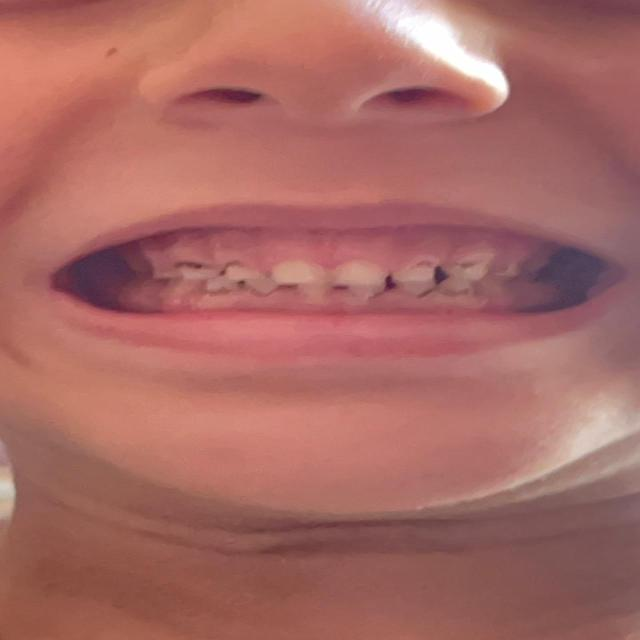tooth: (328, 265, 377, 283), (279, 263, 315, 282), (452, 262, 486, 281), (403, 265, 433, 285), (226, 262, 252, 282), (304, 281, 332, 299), (455, 283, 481, 299), (353, 284, 378, 300), (212, 280, 235, 297), (182, 279, 205, 295), (404, 286, 430, 300), (492, 264, 514, 280), (256, 281, 278, 297), (494, 286, 515, 299), (186, 264, 207, 276)
